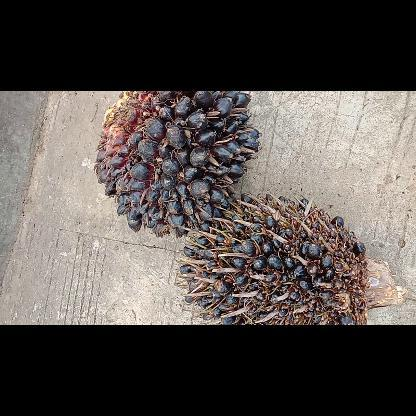TBS mentah: (173, 192, 377, 324), (89, 91, 261, 239)
